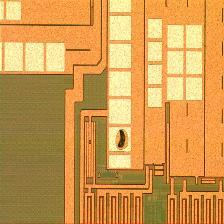PARTICLE: (112, 128, 132, 154)
